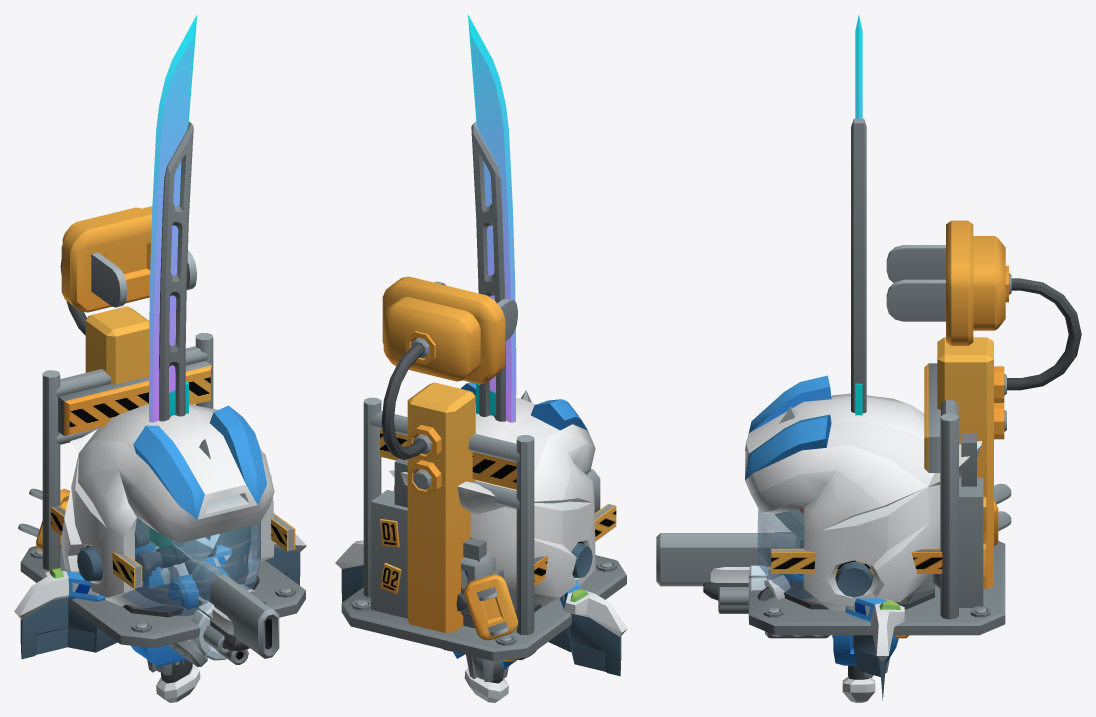
The model's file is robots.glb.
3 views of the same model, side by side, from view 1: azimuth 30°, elevation 25°; view 2: azimuth 150°, elevation 25°; view 3: azimuth 270°, elevation 25° (orthographic). The views are drawn at different scales.
Parts seen in each view (by area): view 1: Robot_ChargingStation, SpaceRanger_Helmet, 4GTN_Katana, SpaceRanger_Helmet_Visor, SpaceRanger_Rifle, SpaceRanger_Jetpack_WingRight, CombatMech_Minigun, CombatMech_Minigun_Barrel, CombatMech_Axe, SpaceRanger_Jetpack, SpaceRanger_Jetpack_WingLeft; view 2: Robot_ChargingStation, SpaceRanger_Helmet, 4GTN_Katana, SpaceRanger_Jetpack_WingRight, SpaceRanger_Jetpack_WingLeft, SpaceRanger_Jetpack; view 3: Robot_ChargingStation, SpaceRanger_Helmet, SpaceRanger_Rifle, 4GTN_Katana, SpaceRanger_Jetpack_WingLeft, SpaceRanger_Helmet_Visor, CombatMech_Minigun_Barrel, SpaceRanger_Jetpack, CombatMech_Axe.
Part boxes in pixels (<box>): Robot_ChargingStation: <box>18,206,305,648</box>; SpaceRanger_Helmet: <box>60,404,274,614</box>; 4GTN_Katana: <box>149,14,200,702</box>; SpaceRanger_Helmet_Visor: <box>122,518,261,615</box>; SpaceRanger_Rifle: <box>167,558,279,658</box>; SpaceRanger_Jetpack_WingRight: <box>14,568,143,659</box>; CombatMech_Minigun: <box>135,544,216,667</box>; CombatMech_Minigun_Barrel: <box>190,600,248,664</box>; CombatMech_Axe: <box>134,439,219,664</box>; SpaceRanger_Jetpack: <box>131,542,214,675</box>; SpaceRanger_Jetpack_WingLeft: <box>213,534,306,585</box>; Robot_ChargingStation: <box>341,276,626,660</box>; SpaceRanger_Helmet: <box>389,382,595,618</box>; 4GTN_Katana: <box>464,15,516,702</box>; SpaceRanger_Jetpack_WingRight: <box>548,580,627,676</box>; SpaceRanger_Jetpack_WingLeft: <box>335,540,363,602</box>; SpaceRanger_Jetpack: <box>452,651,516,681</box>; Robot_ChargingStation: <box>749,220,1081,635</box>; SpaceRanger_Helmet: <box>745,375,981,611</box>; SpaceRanger_Rifle: <box>656,533,804,600</box>; 4GTN_Katana: <box>842,15,875,702</box>; SpaceRanger_Jetpack_WingLeft: <box>845,598,904,700</box>; SpaceRanger_Helmet_Visor: <box>757,508,813,599</box>; CombatMech_Minigun_Barrel: <box>718,565,768,619</box>; SpaceRanger_Jetpack: <box>833,635,898,677</box>; CombatMech_Axe: <box>774,406,804,539</box>.
Bounding box in the file's own units: 1.88 × 4.25 × 2.34.
Materials: 6 (6 with a texture image).
